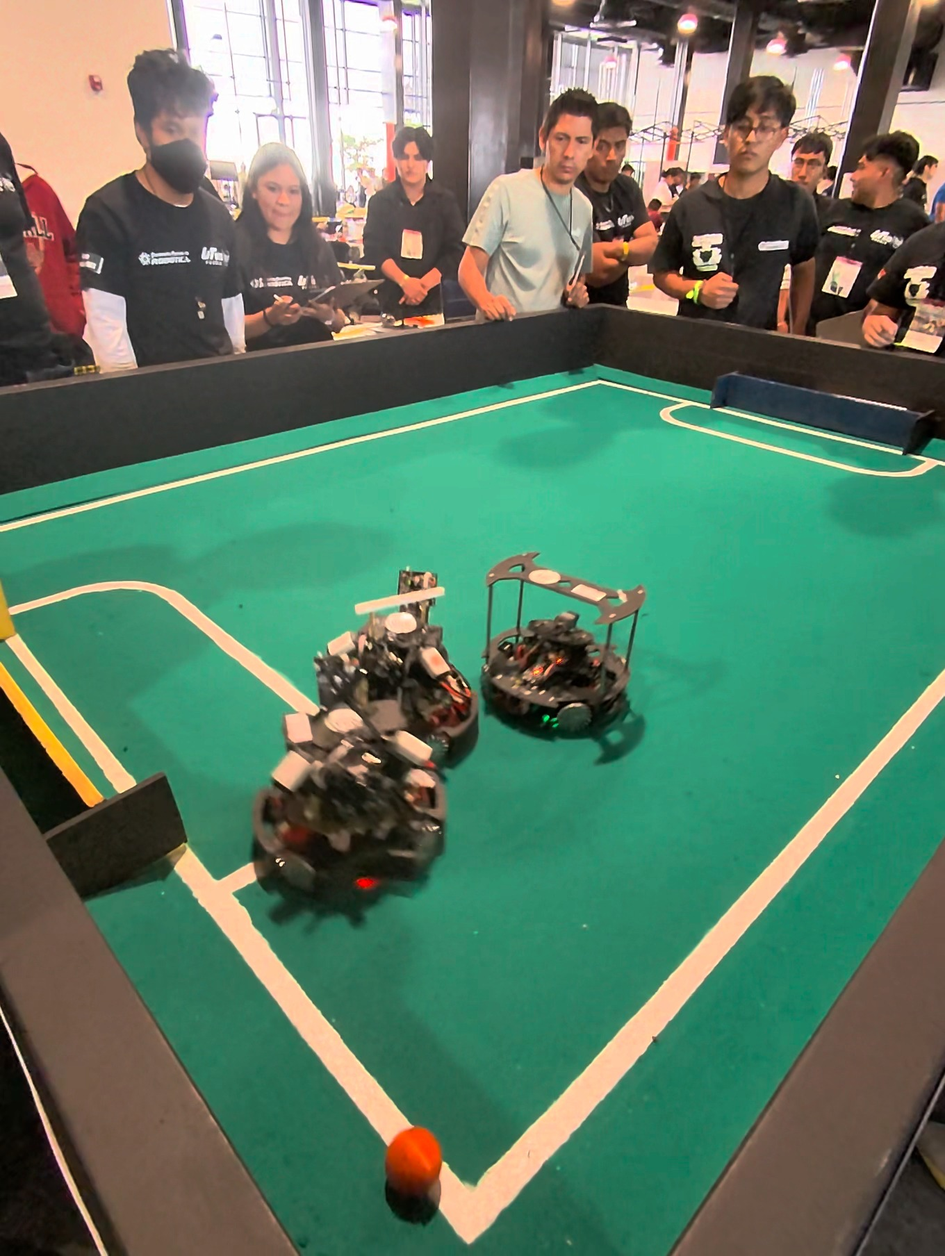Robot: (244, 688, 457, 915), (480, 539, 653, 763), (308, 573, 483, 776)
pelota: (384, 1124, 444, 1228)
